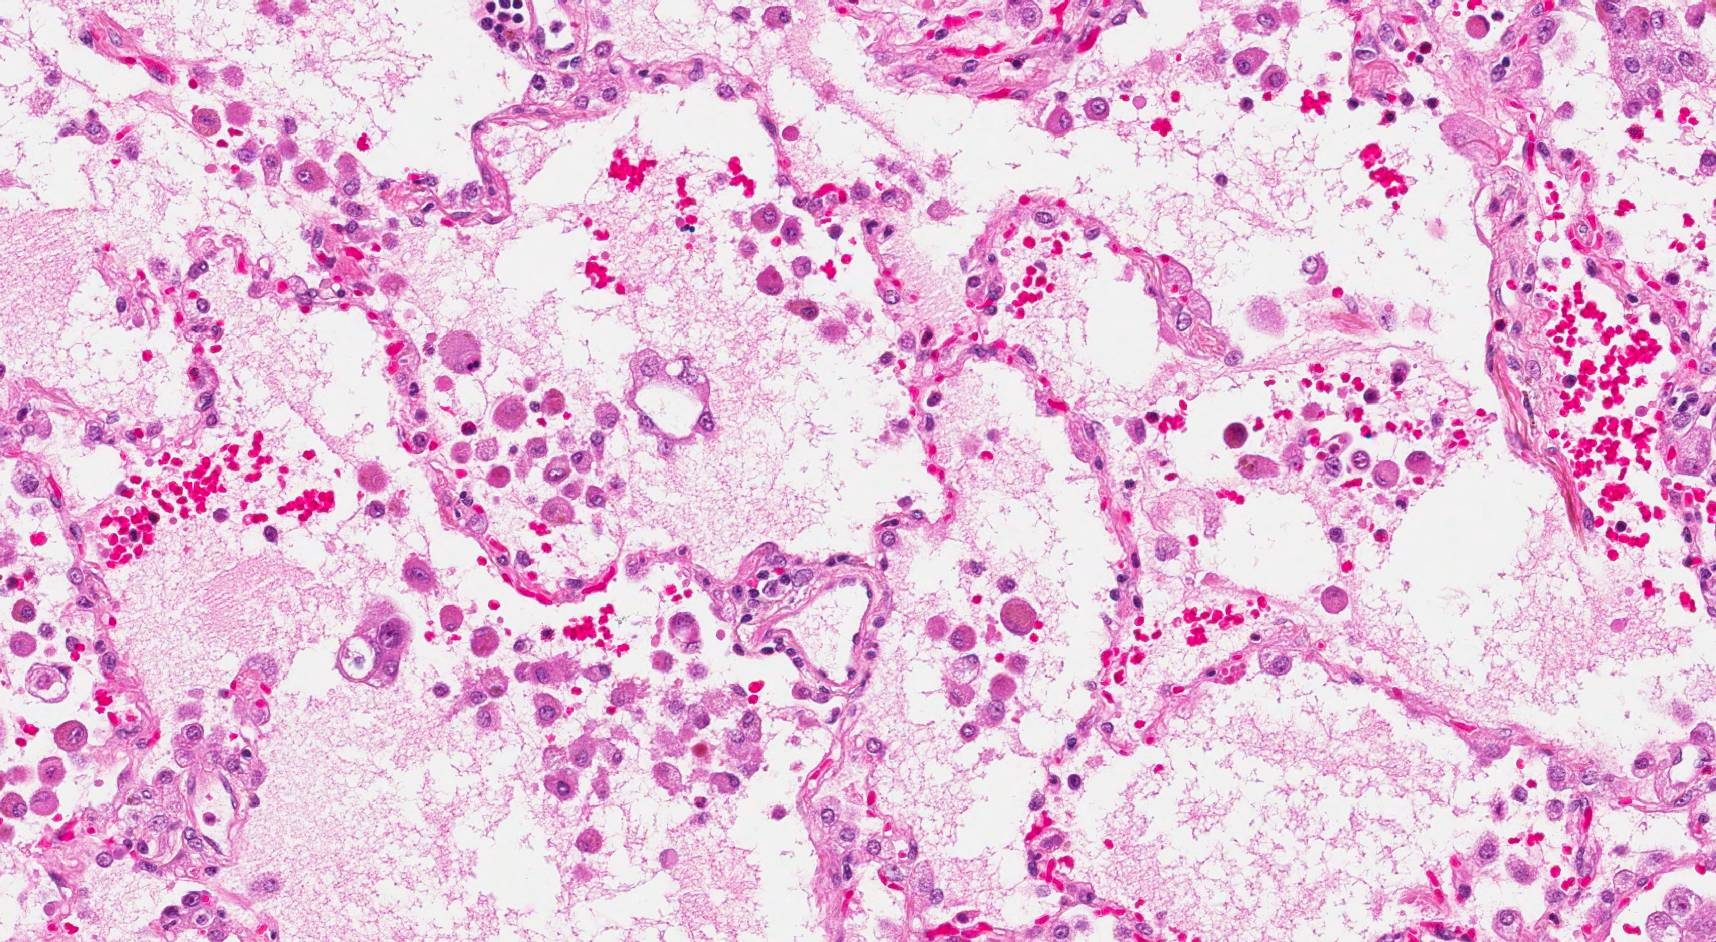stas: (623, 347, 723, 458), (331, 600, 413, 693)
